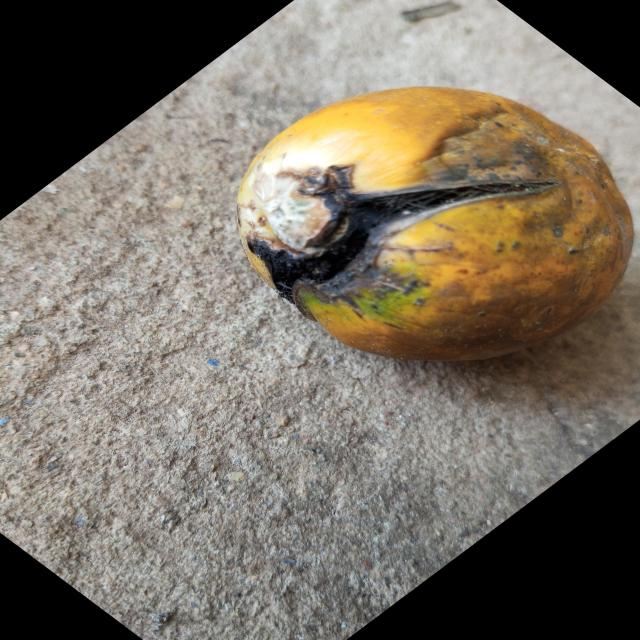damaged: (236, 86, 635, 363)
